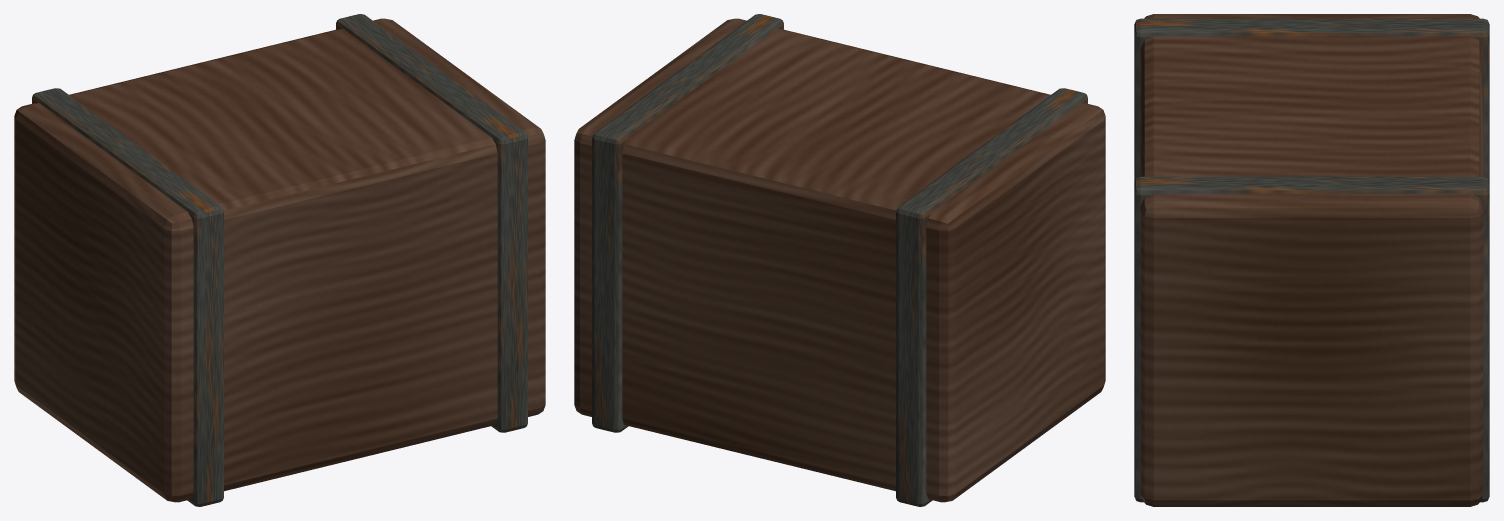
The model's file is peti.glb.
3 views of the same model, side by side, from view 1: azimuth 30°, elevation 25°; view 2: azimuth 150°, elevation 25°; view 3: azimuth 270°, elevation 25° (orthographic). The views are drawn at different scales.
Visible parts, largest first — view 1: Badan.008, Penguat, Penguat.001; view 2: Badan.008, Penguat, Penguat.001; view 3: Badan.008, Penguat.001, Penguat.
Part boxes in pixels (x1,y1,x2,y2): Badan.008: [14, 18, 545, 502]; Penguat: [32, 88, 223, 506]; Penguat.001: [336, 14, 527, 432]; Badan.008: [574, 18, 1105, 502]; Penguat: [896, 88, 1087, 506]; Penguat.001: [592, 14, 783, 432]; Badan.008: [1140, 14, 1483, 506]; Penguat.001: [1134, 176, 1489, 502]; Penguat: [1134, 18, 1489, 181].
Bounding box in the file's own units: 0.9 × 0.67 × 0.685.
Materials: 2 (2 with a texture image).
